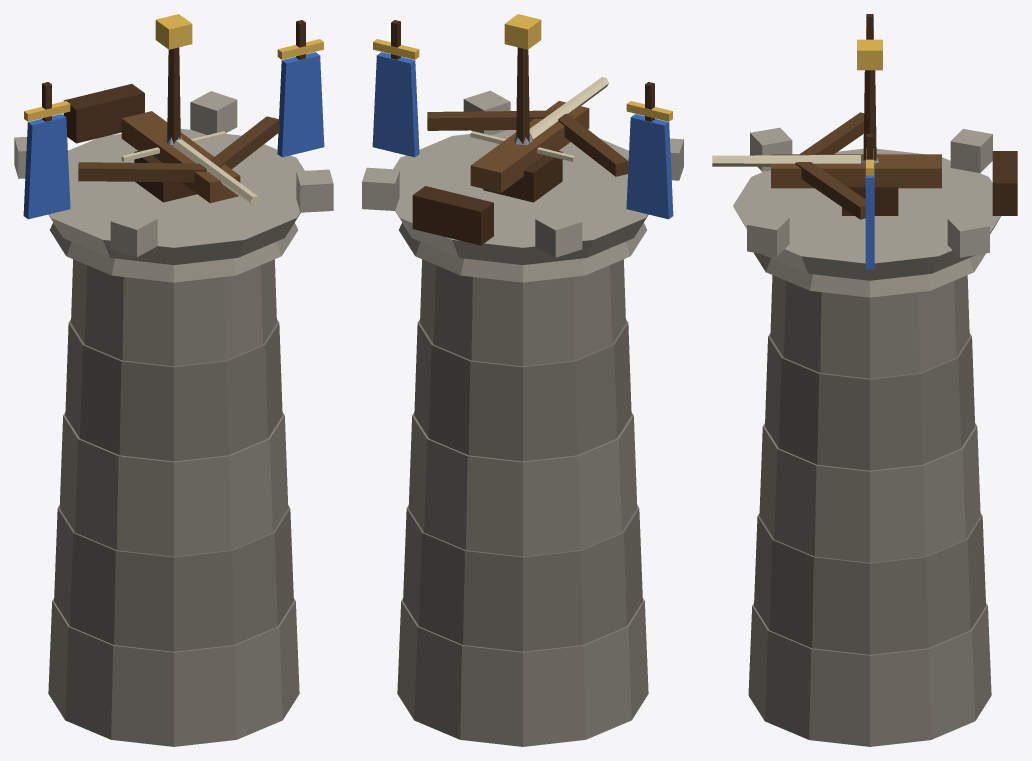
The model's file is tower_sniper_l3.glb.
3 views of the same model, side by side, from view 1: azimuth 30°, elevation 25°; view 2: azimuth 150°, elevation 25°; view 3: azimuth 270°, elevation 25° (orthographic). The views are drawn at different scales.
Visible parts, largest first — view 1: Body, Turret; view 2: Body, Turret; view 3: Body, Turret.
Part boxes in pixels (<box>): Body: <box>14,14,333,746</box>; Turret: <box>63,84,279,205</box>; Body: <box>362,14,683,746</box>; Turret: <box>412,77,628,245</box>; Body: <box>733,14,1000,746</box>; Turret: <box>712,112,1017,219</box>.
Bounding box in the file's own units: 0.735 × 1.59 × 0.6775.
